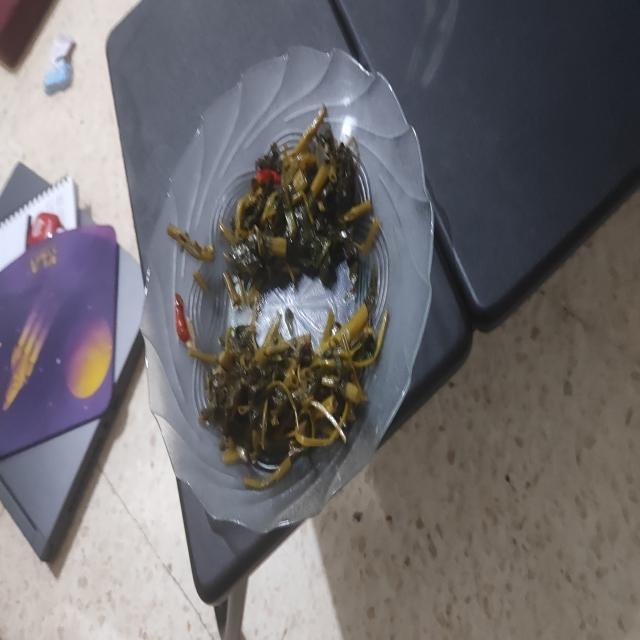tumis_kangkung: (186, 300, 388, 488), (220, 104, 372, 294)
